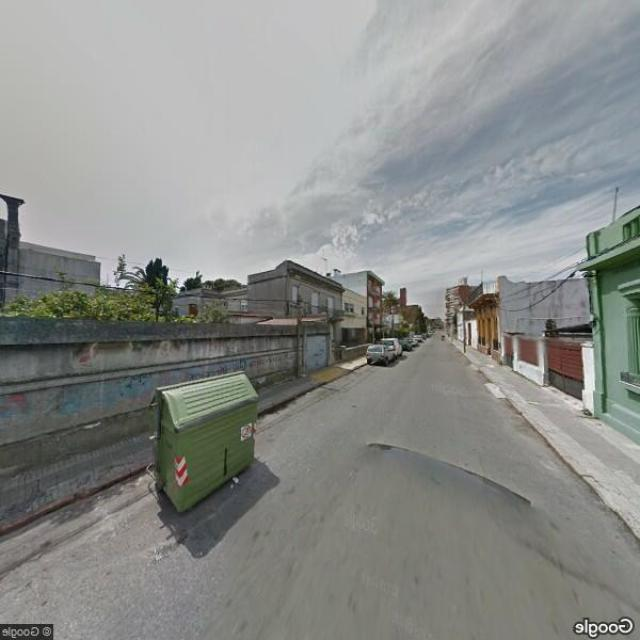garbage container: (128, 364, 266, 528)
